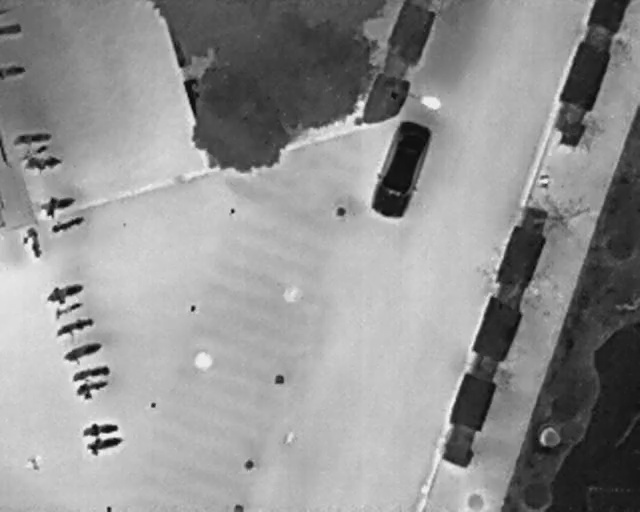Bicycle: (60, 338, 106, 368), (43, 277, 86, 308), (37, 192, 78, 221), (53, 313, 97, 340), (17, 225, 45, 263), (84, 432, 124, 457), (73, 377, 111, 403), (49, 212, 88, 236), (80, 417, 119, 441), (69, 364, 111, 384), (50, 297, 86, 320), (17, 140, 51, 164), (22, 154, 62, 174), (10, 131, 53, 146), (0, 64, 26, 80), (0, 22, 23, 35)
Car: (365, 115, 437, 226)
Person: (24, 452, 45, 474), (538, 171, 550, 192)
